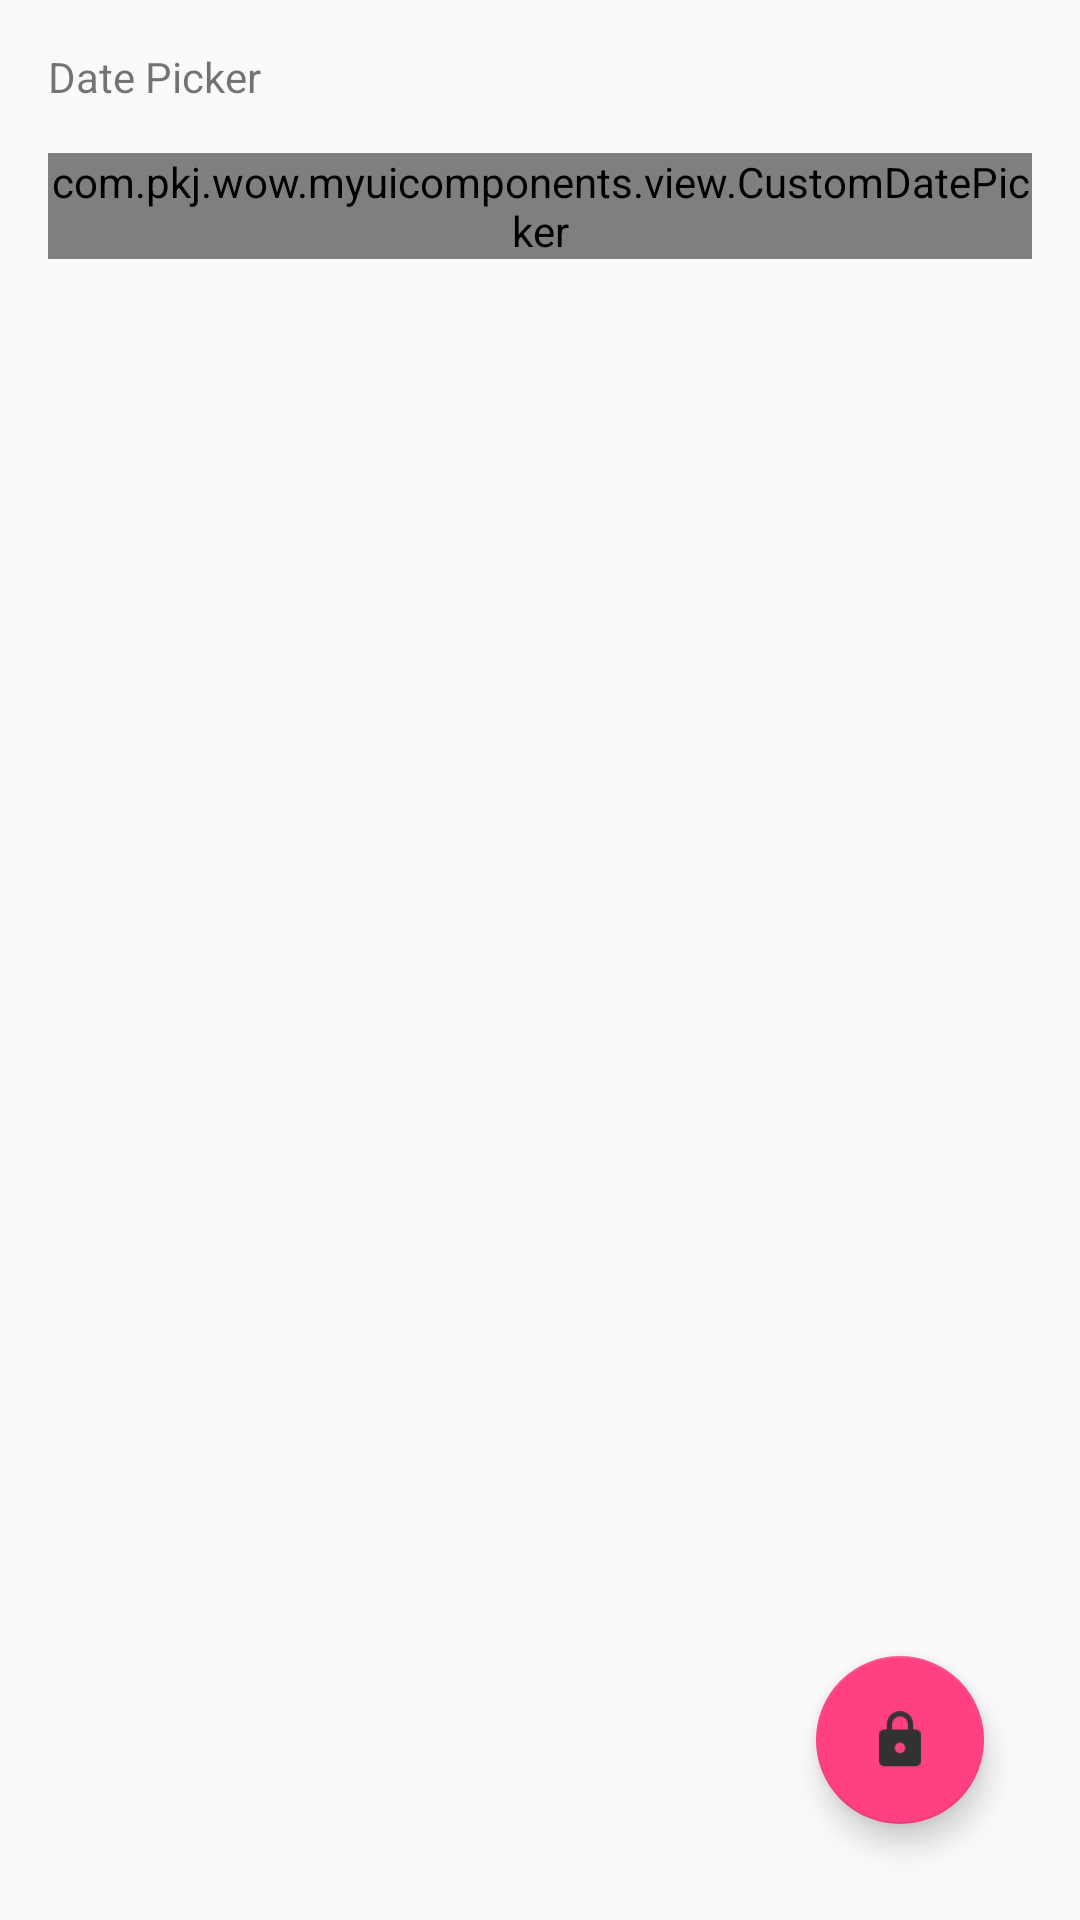

Icon bounding boxes for this 1080px x 1920px phone screenshot, format (x1, y1, x2, y2):
lock: (816, 1656, 984, 1824)
